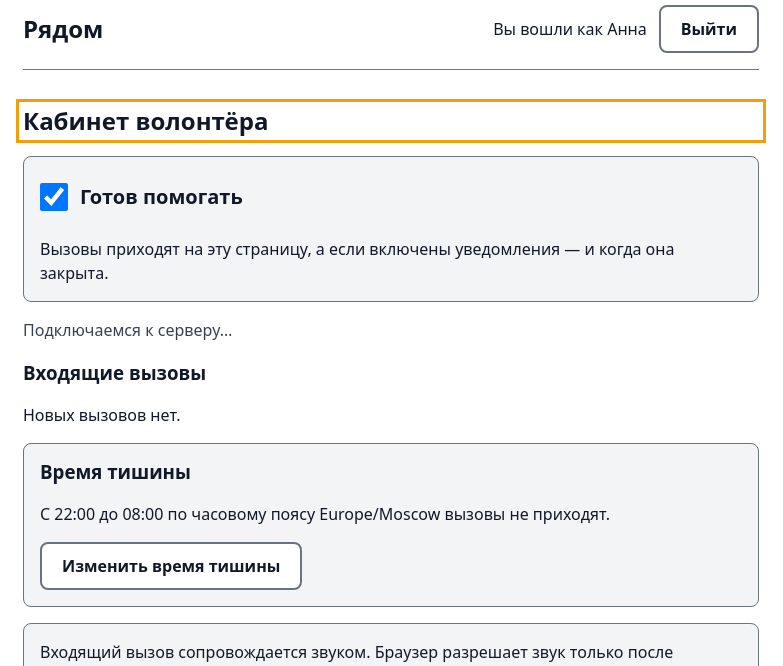
Test: volunteer page › changes quiet hours
The width and height of the screenshot is (783, 666).
Check: the heading "Кабинет волонтёра" is shown, box [23,104,268,137]
Step 1. Click the button "Изменить время тишины" → (171, 566), box [40,542,302,590]
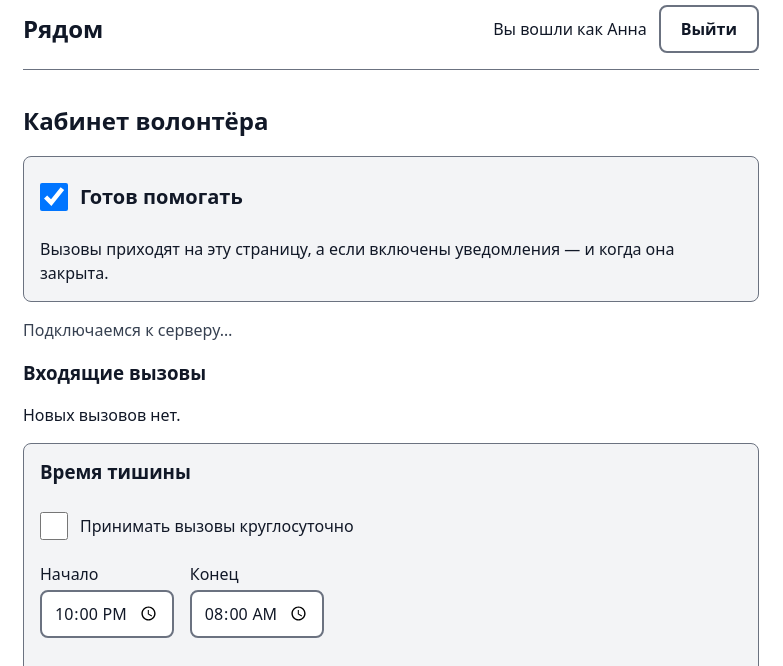
Step 2. Replace the text in the time field labelled "Начало" with "23:00" → (107, 614), box [40,590,174,638]
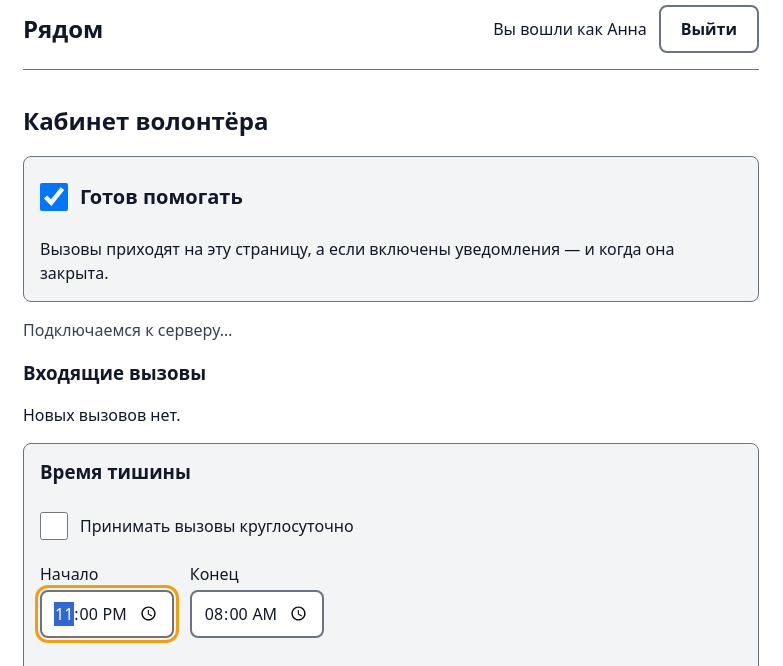
Step 3. Replace the text in the time field labelled "Конец" with "07:30" → (257, 614), box [190,590,324,638]
(page scrolled)
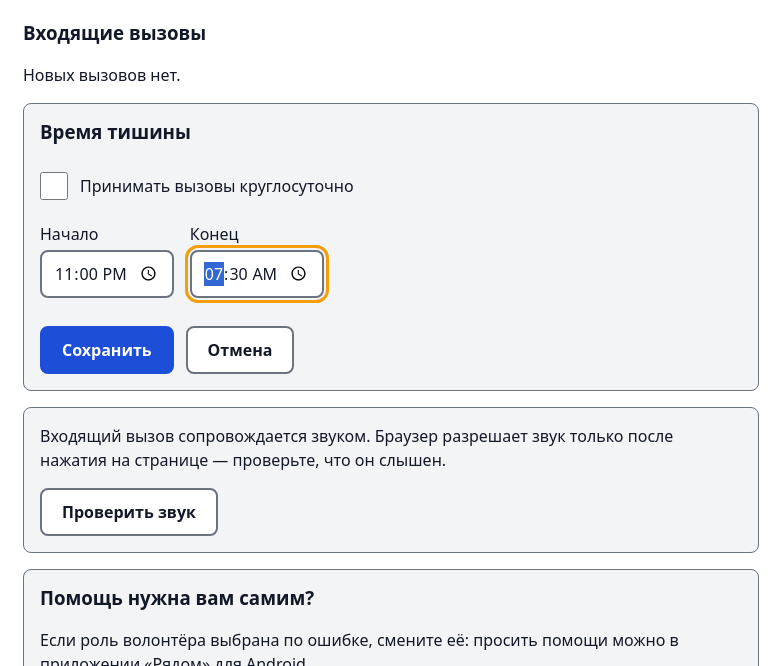
Step 4. Click the button "Сохранить" → (107, 350), box [40,326,174,374]
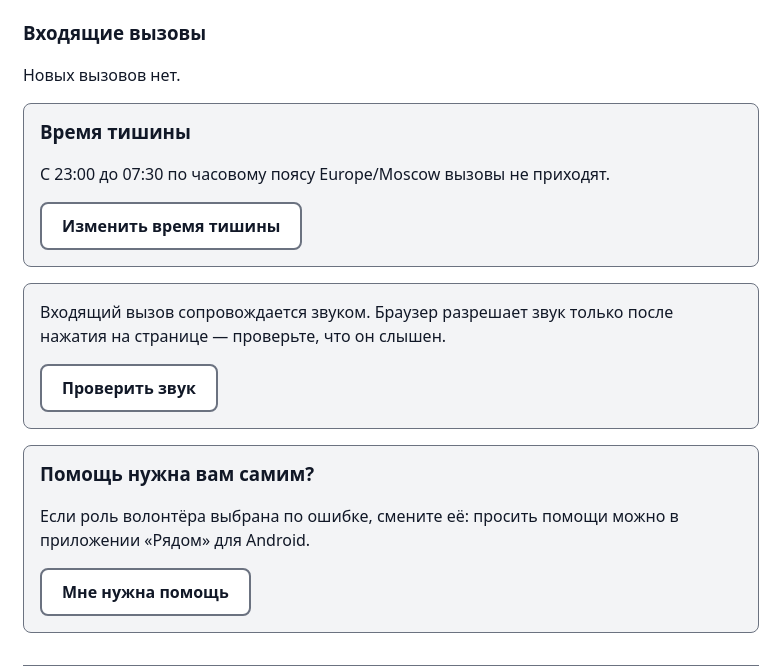
Check: the text "С 23:00 до 07:30 по часовому поясу Europe/Moscow вызовы не приходят." is shown, box [40,163,610,185]
